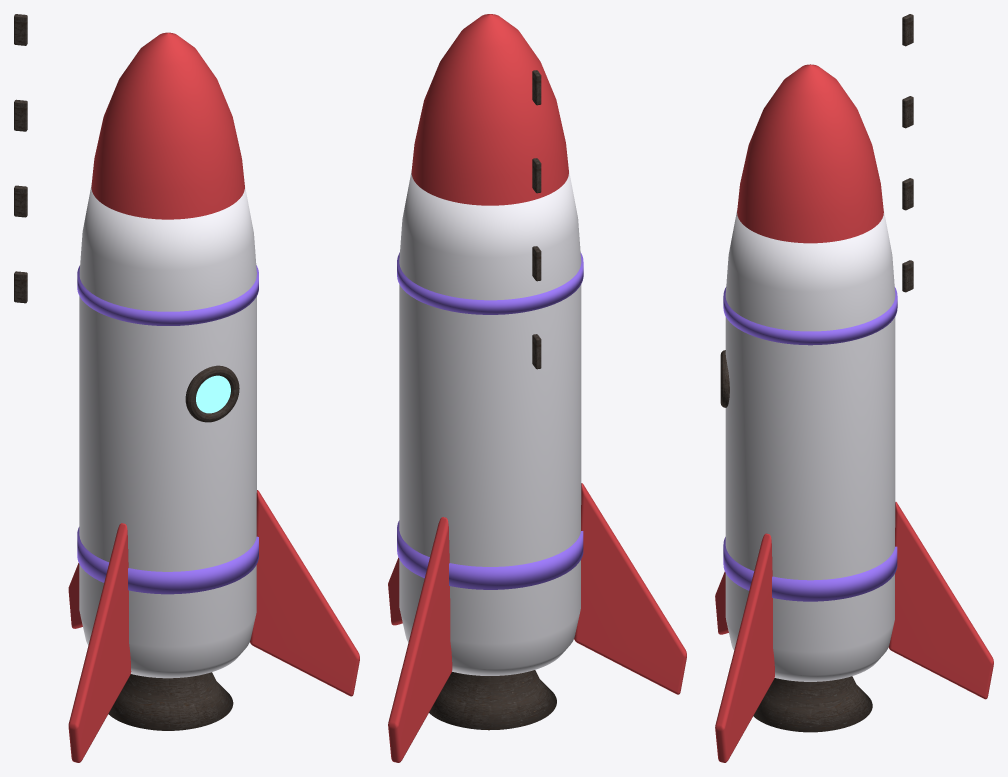
File: yp_rocket.glb
3 views of the same model, side by side, from view 1: azimuth 30°, elevation 25°; view 2: azimuth 150°, elevation 25°; view 3: azimuth 270°, elevation 25° (orthographic). The views are drawn at different scales.
Visible parts, largest first — view 1: rocket_body, rocket_nose, fin2, fin1, rocket_nozzle, band_1.1, band_3.1, Torus, Cylinder, fin0; view 2: rocket_body, rocket_nose, fin1, fin0, rocket_nozzle, band_1.1, band_3.1, fin2; view 3: rocket_body, rocket_nose, fin0, fin2, rocket_nozzle, band_1.1, band_3.1, fin1, Torus.
Part boxes in pixels (box(x1,y1,x2,y2)): rocket_body: box(79, 185, 256, 678); rocket_nose: box(91, 32, 244, 219); fin2: box(250, 490, 359, 696); fin1: box(68, 523, 131, 762); rocket_nozzle: box(108, 672, 233, 730); band_1.1: box(77, 527, 258, 594); band_3.1: box(77, 265, 258, 325); Torus: box(185, 365, 239, 422); Cylinder: box(196, 375, 230, 413); fin0: box(68, 563, 82, 628); rocket_body: box(399, 171, 581, 675); rocket_nose: box(411, 14, 568, 205); fin1: box(574, 483, 686, 694); fin0: box(388, 517, 452, 762); rocket_nozzle: box(429, 670, 556, 730); band_1.1: box(397, 520, 583, 589); band_3.1: box(397, 252, 583, 314); fin2: box(388, 557, 402, 625); rocket_body: box(725, 210, 895, 681); rocket_nose: box(737, 64, 883, 243); fin0: box(888, 502, 993, 699); fin2: box(715, 533, 774, 762); rocket_nozzle: box(753, 676, 872, 732); band_1.1: box(723, 537, 897, 601); band_3.1: box(723, 287, 897, 345); fin1: box(715, 571, 728, 634); Torus: box(720, 350, 729, 407).
Bounding box in the file's own units: 2.27 × 5.05 × 1.97.
Materials: 5 (1 with a texture image).
